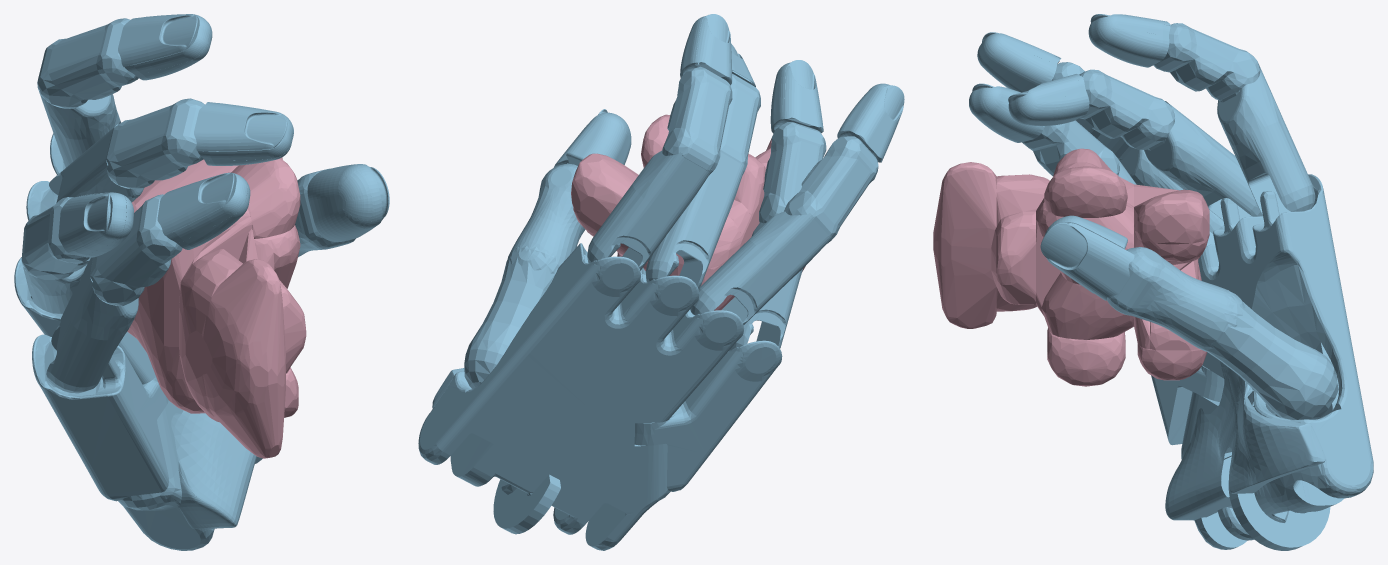
3 views of the same model, side by side, from view 1: azimuth 30°, elevation 25°; view 2: azimuth 150°, elevation 25°; view 3: azimuth 270°, elevation 25° (orthographic). The views are drawn at different scales.
Parts seen in each view (by area): view 1: hand_isaac_q, world; view 2: hand_isaac_q, world; view 3: hand_isaac_q, world.
Part boxes in pixels (x1=…): hand_isaac_q: x1=14, y1=14, x2=389, y2=550; world: x1=127, y1=157, x2=306, y2=458; hand_isaac_q: x1=418, y1=14, x2=904, y2=550; world: x1=571, y1=114, x2=805, y2=310; hand_isaac_q: x1=969, y1=14, x2=1373, y2=550; world: x1=933, y1=148, x2=1209, y2=386.
Size of the model in its own units: 0.1273 by 0.19 by 0.1488.
